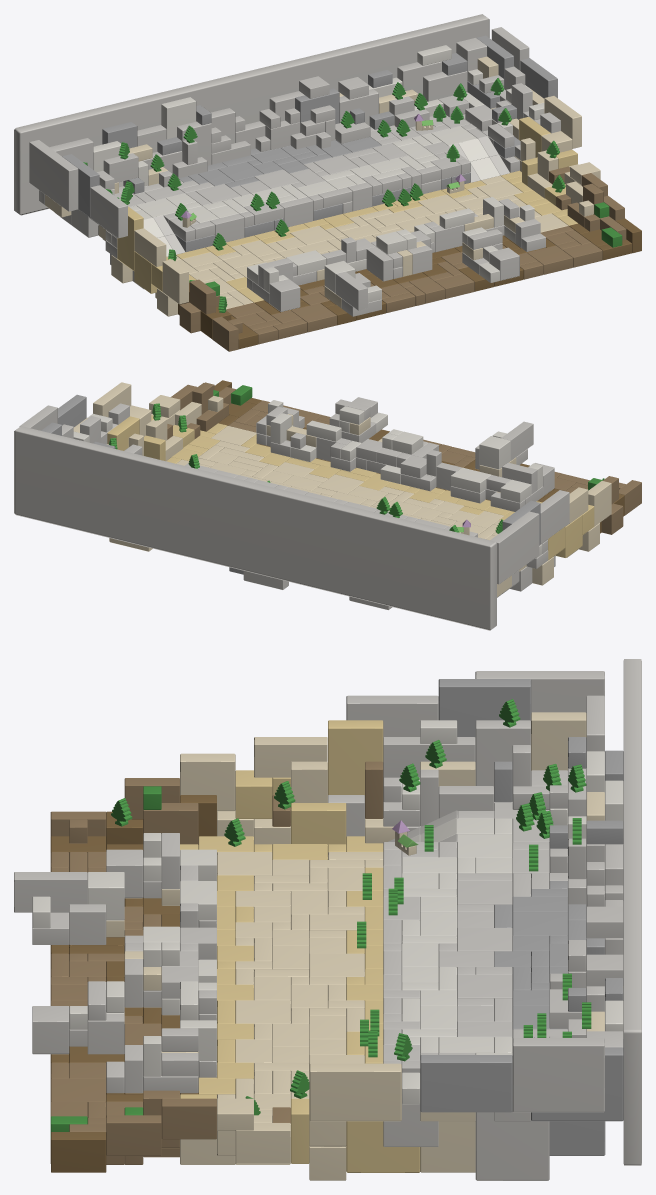
Rendered from town master kari.fbx.
3 views of the same model, one above another, from view 1: azimuth 30°, elevation 25°; view 2: azimuth 150°, elevation 25°; view 3: azimuth 270°, elevation 25° (orthographic). The views are drawn at different scales.
Parts seen in each view (by area): view 1: Field_core1; view 2: Field_core1; view 3: Field_core1.
Part boxes in pixels (<box>): Field_core1: <box>14,14,641,351</box>; Field_core1: <box>14,380,641,630</box>; Field_core1: <box>14,659,641,1180</box>.
Bounding box in the file's own units: 1452 × 289 × 1020.
